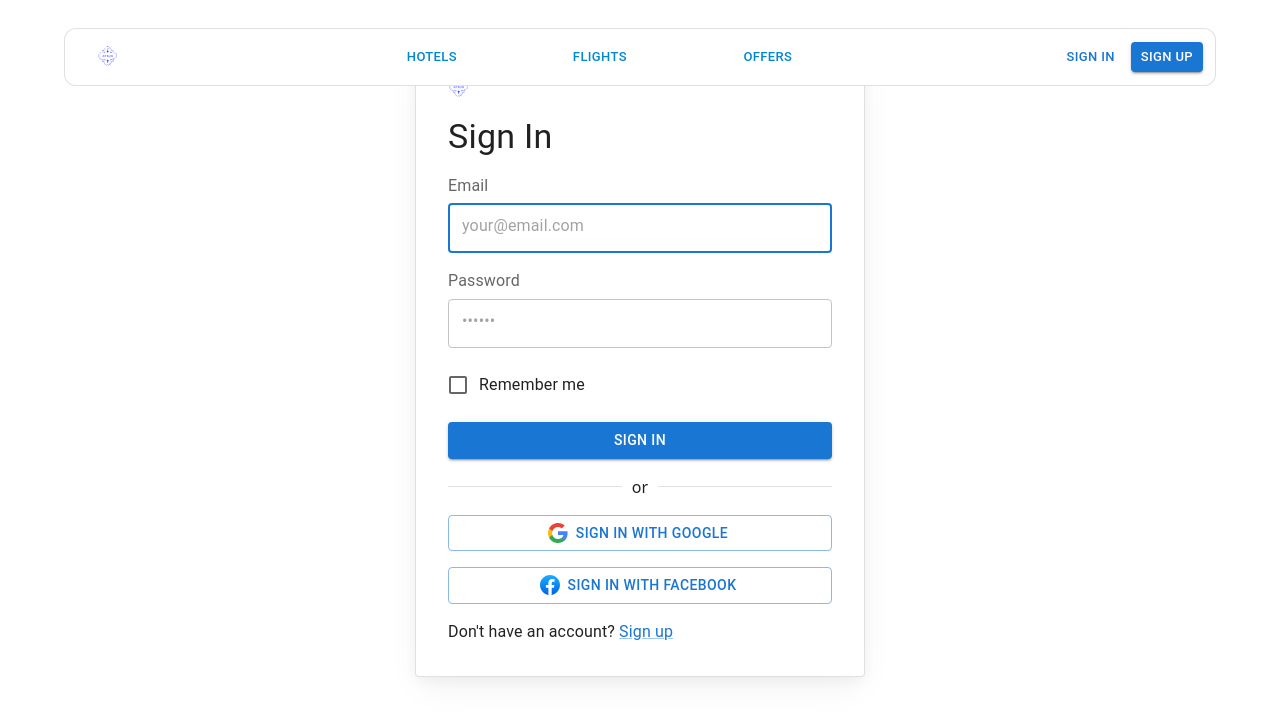
Scenario: Connexion utilisateur › should display an email validation error
In the password field named "password": (640, 320) [448,292,832,348], type "password123"
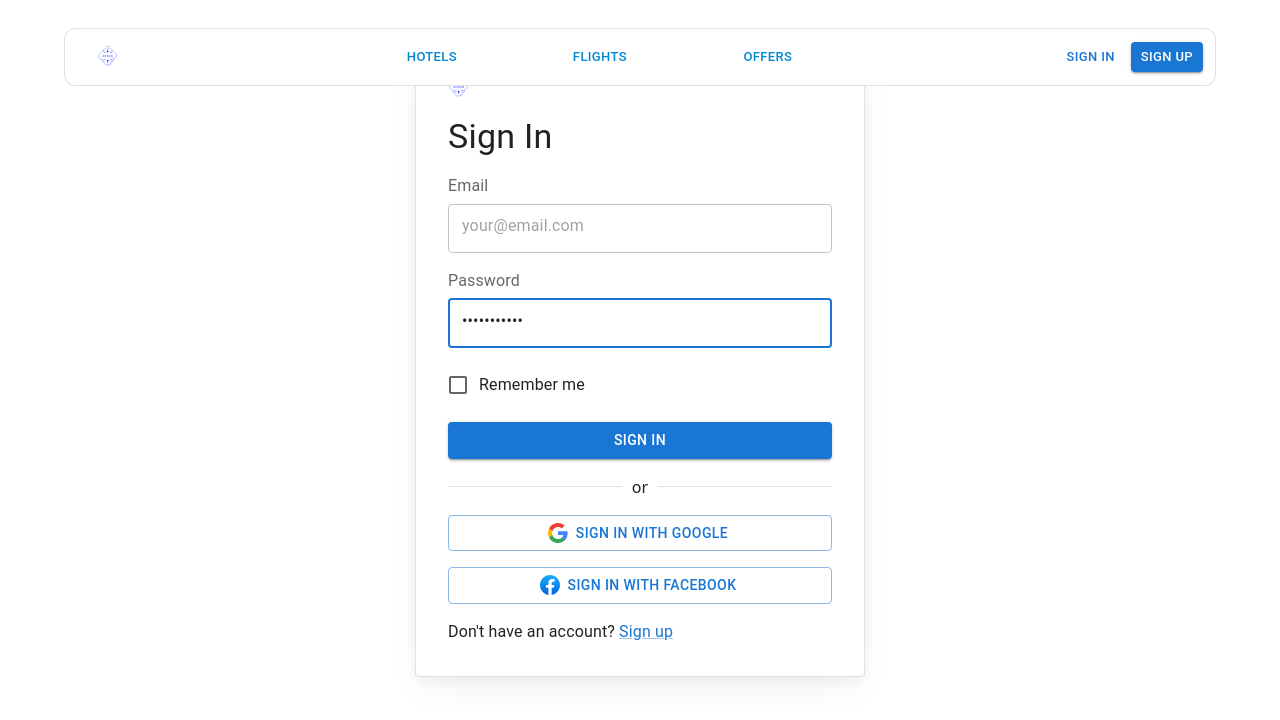
Click the submit button: (640, 441) [448,422,832,459]
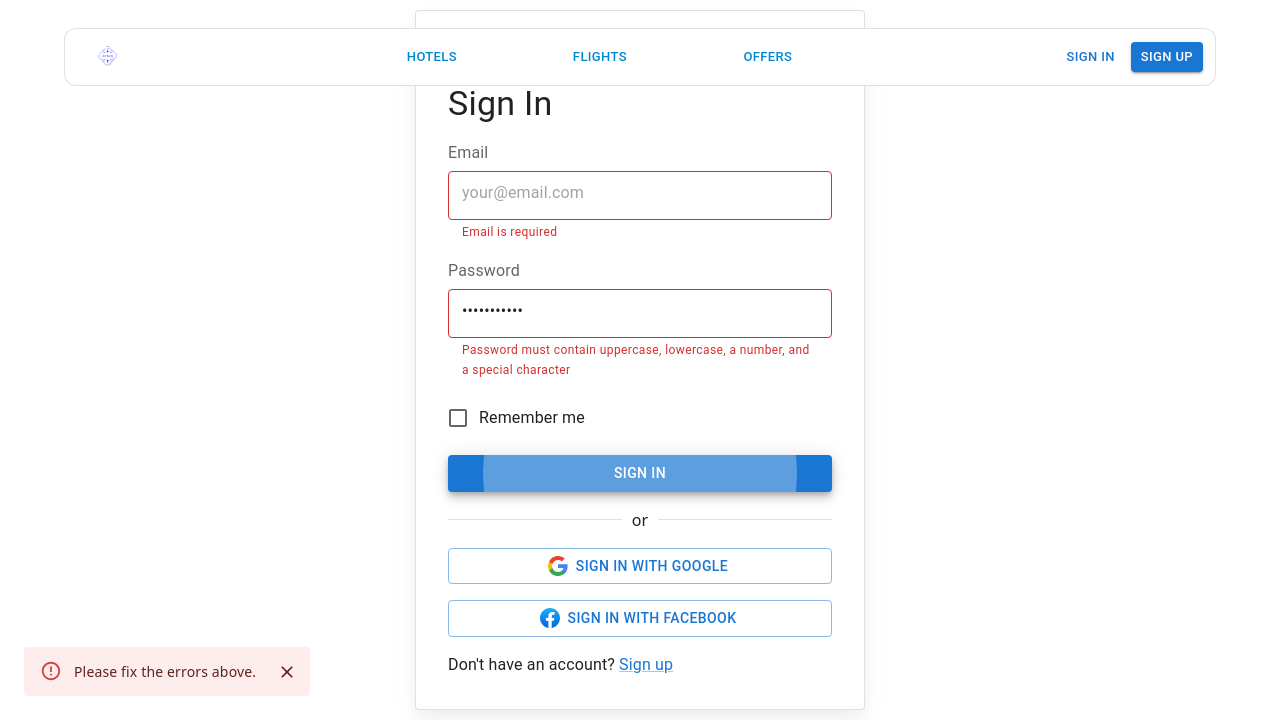
Now the text "Email is required" is shown, box [462,225,557,239]
